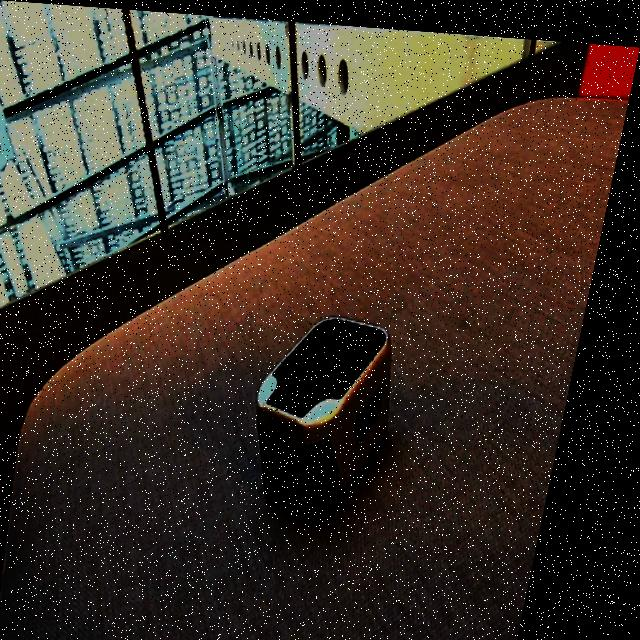adapter: (252, 303, 422, 517)
